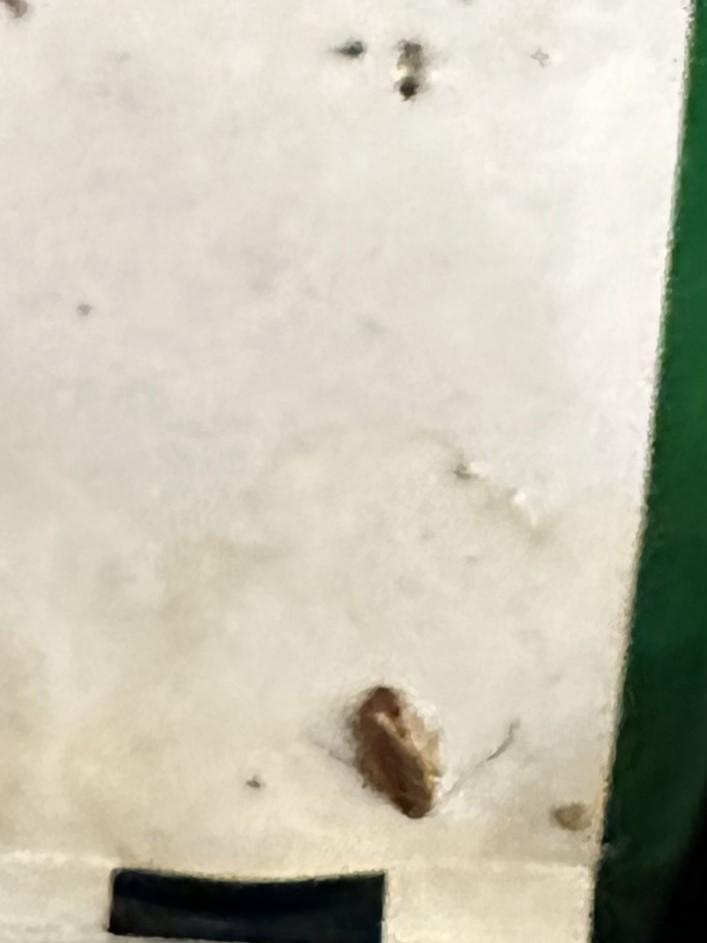cockroach: (250, 612, 540, 861)
